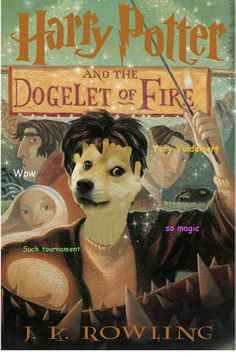doge: (67, 144, 141, 216)
